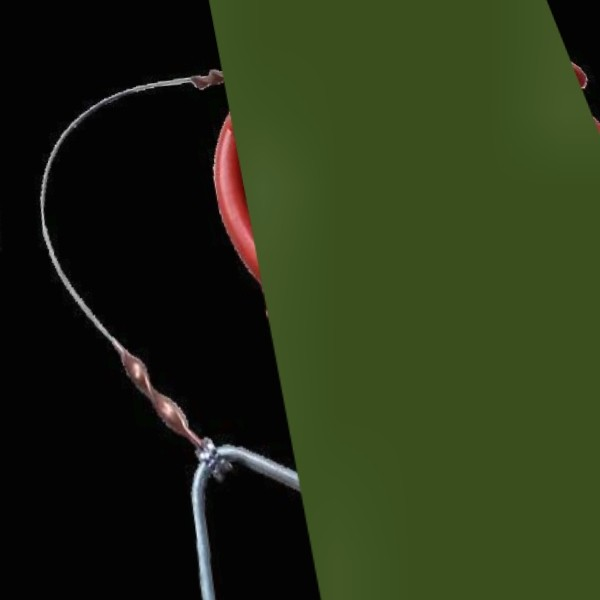chock: (147, 0, 600, 600)
